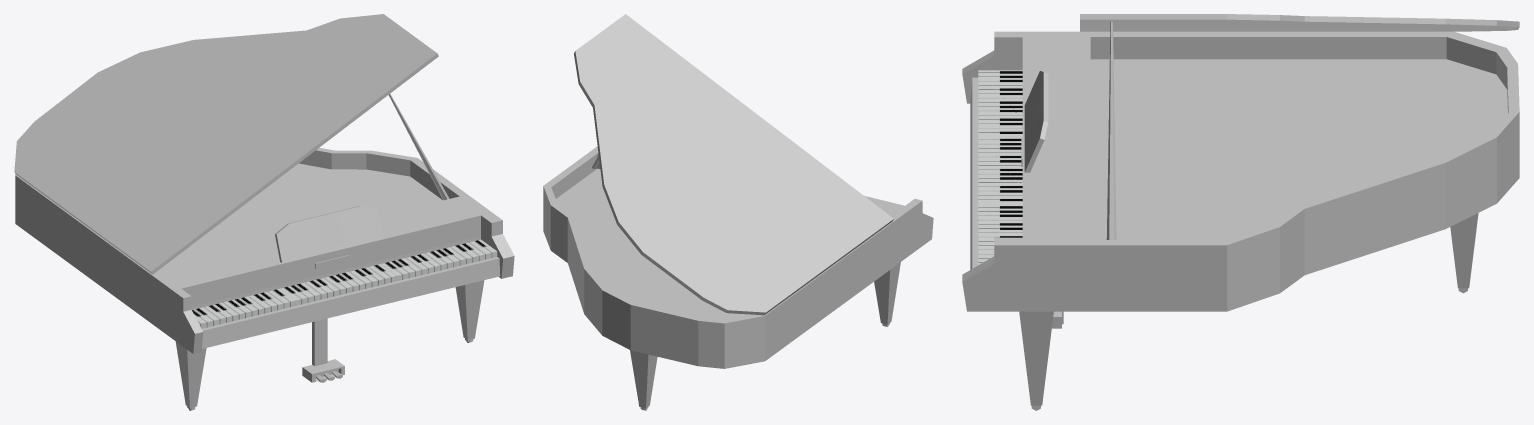
Rendered from Piano.fbx.
3 renders of one model, left to right at view 1: azimuth 30°, elevation 25°; view 2: azimuth 150°, elevation 25°; view 3: azimuth 270°, elevation 25°, orthographic. The views are drawn at different scales.
Visible parts, largest first — view 1: Piano Black, Piano Key; view 2: Piano Black; view 3: Piano Black, Piano Key.
Boxes of the visible parts, left/top/right/bottom form: Piano Black: left=14, top=14, right=514, bottom=410; Piano Key: left=192, top=239, right=497, bottom=328; Piano Black: left=543, top=14, right=933, bottom=410; Piano Black: left=962, top=14, right=1519, bottom=410; Piano Key: left=978, top=70, right=1022, bottom=264.
Bounding box in the file's own units: 188 × 160 × 207.
